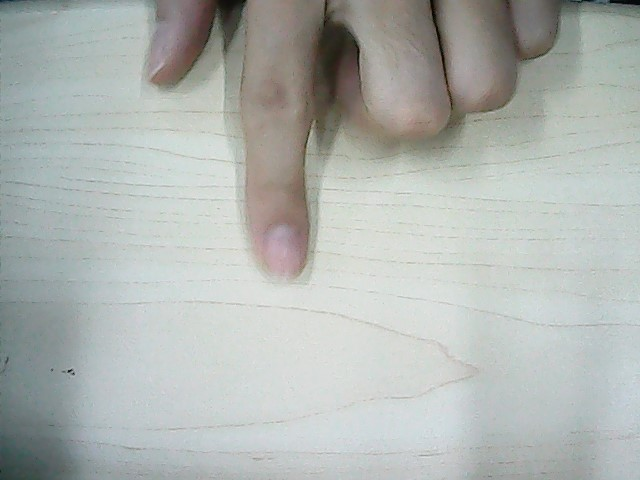nail: (262, 230, 301, 280), (145, 27, 165, 83)
